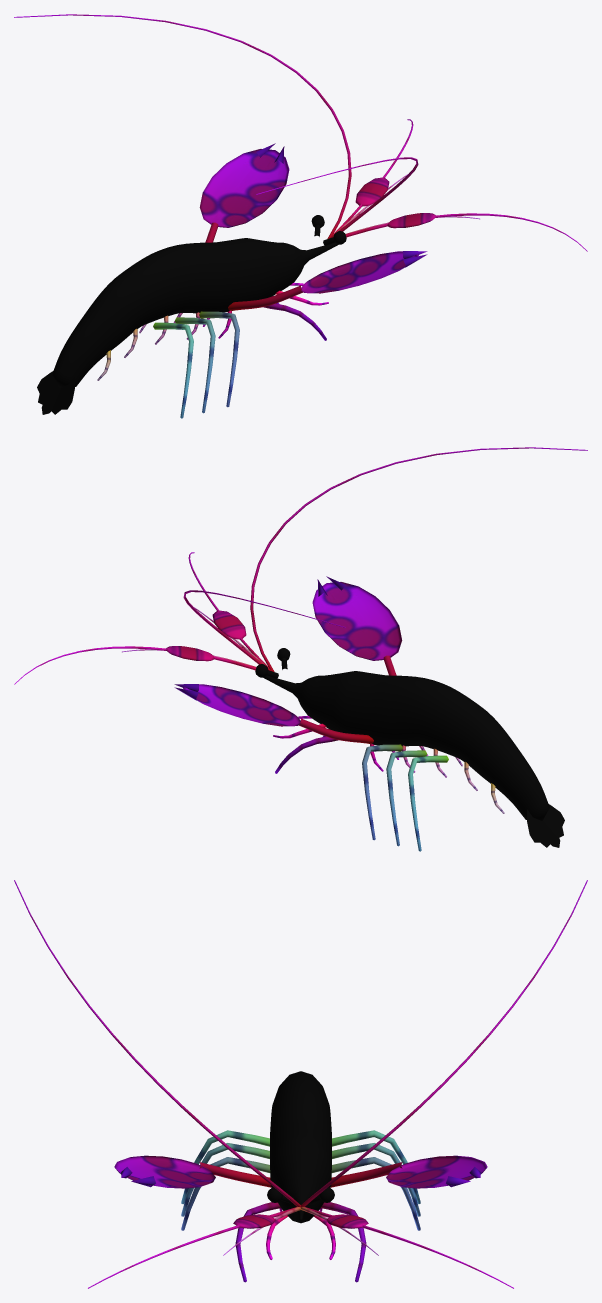
The model's file is harlequin_shrimp.glb.
3 views of the same model, one above another, from view 1: azimuth 30°, elevation 25°; view 2: azimuth 150°, elevation 25°; view 3: azimuth 270°, elevation 25° (orthographic). The views are drawn at different scales.
Parts seen in each view (by area): view 1: Body, Claws, Antennae, Legs; view 2: Body, Claws, Antennae, Legs; view 3: Body, Claws, Legs, Antennae.
Part boxes in pixels (left/top/right/bottom): Body: left=37, top=238, right=338, bottom=414; Claws: left=199, top=143, right=427, bottom=310; Antennae: left=14, top=14, right=587, bottom=251; Legs: left=97, top=282, right=328, bottom=418; Body: left=263, top=671, right=564, bottom=847; Claws: left=174, top=576, right=402, bottom=743; Antennae: left=14, top=447, right=587, bottom=684; Legs: left=273, top=715, right=504, bottom=851; Body: left=270, top=1071, right=331, bottom=1223; Claws: left=114, top=1155, right=487, bottom=1188; Legs: left=181, top=1130, right=420, bottom=1282; Antennae: left=14, top=880, right=587, bottom=1288.
Size of the model in its own units: 1.46 by 0.8811 by 1.35.
2 materials, 1 textured.
